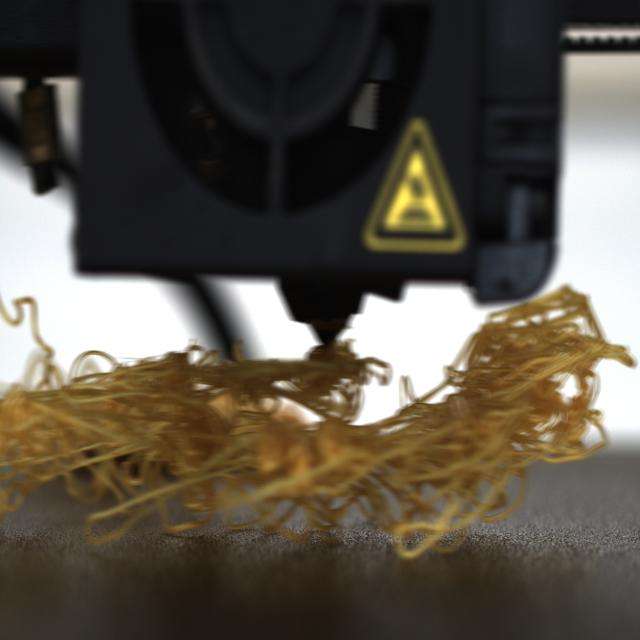Curling_Spagetti: (301, 482, 374, 543)
